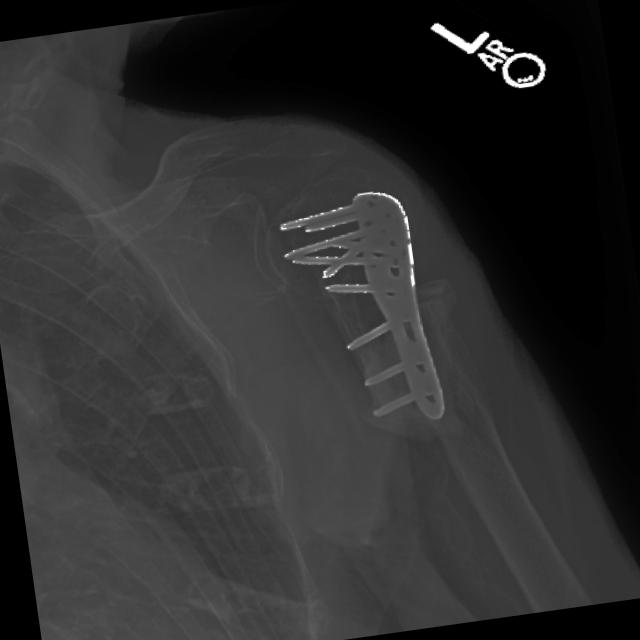forearm fracture: (346, 242, 517, 478)
